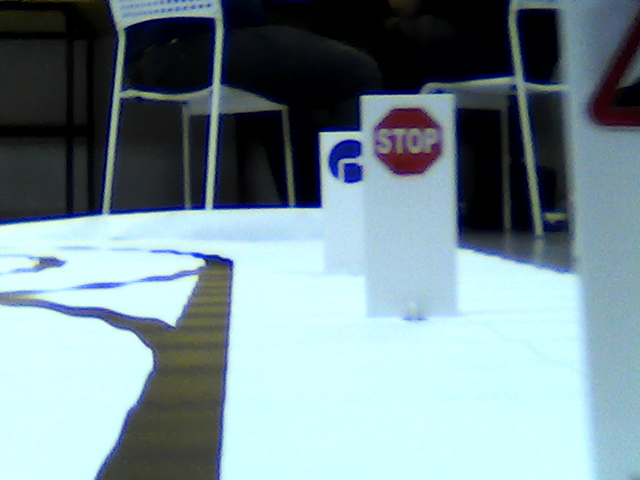Stop: (372, 110, 445, 174)
